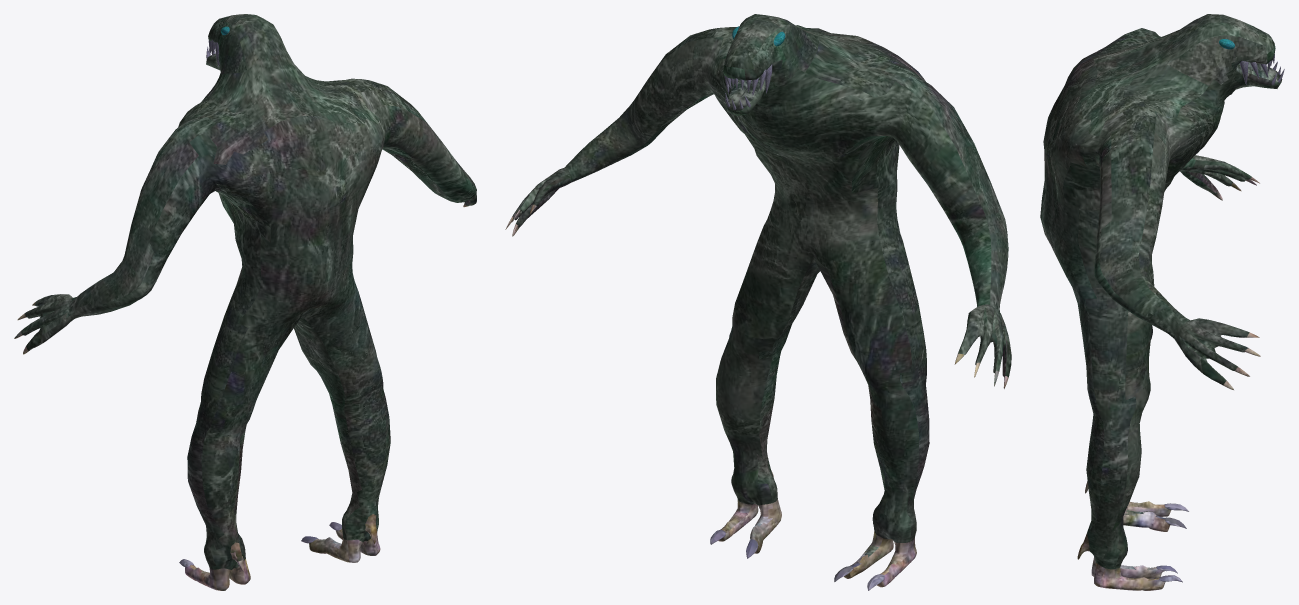
The model's file is Aranar.0003.obj.
3 views of the same model, side by side, from view 1: azimuth 30°, elevation 25°; view 2: azimuth 150°, elevation 25°; view 3: azimuth 270°, elevation 25° (orthographic). The views are drawn at different scales.
Visible parts, largest first — view 1: polySurface28; view 2: polySurface28; view 3: polySurface28.
Part boxes in pixels (x1=…): polySurface28: x1=14, y1=14, x2=476, y2=590; polySurface28: x1=505, y1=14, x2=1011, y2=590; polySurface28: x1=1040, y1=14, x2=1284, y2=590.
Bounding box in the file's own units: 2.08 × 2.31 × 0.9461.
4 materials, 4 textured.
